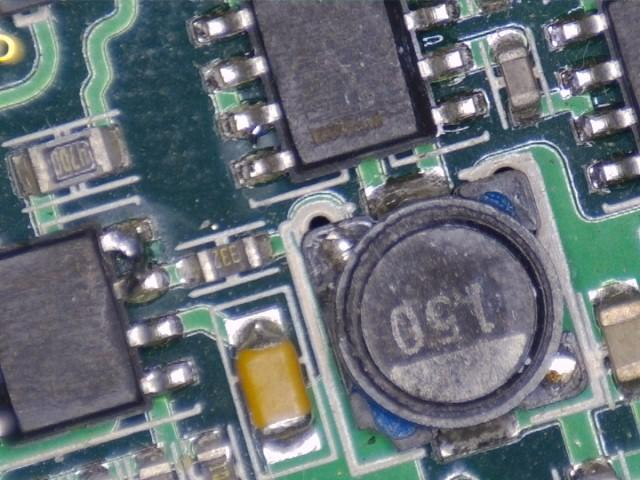Short_circuit: (217, 102, 297, 189), (100, 219, 166, 304)
